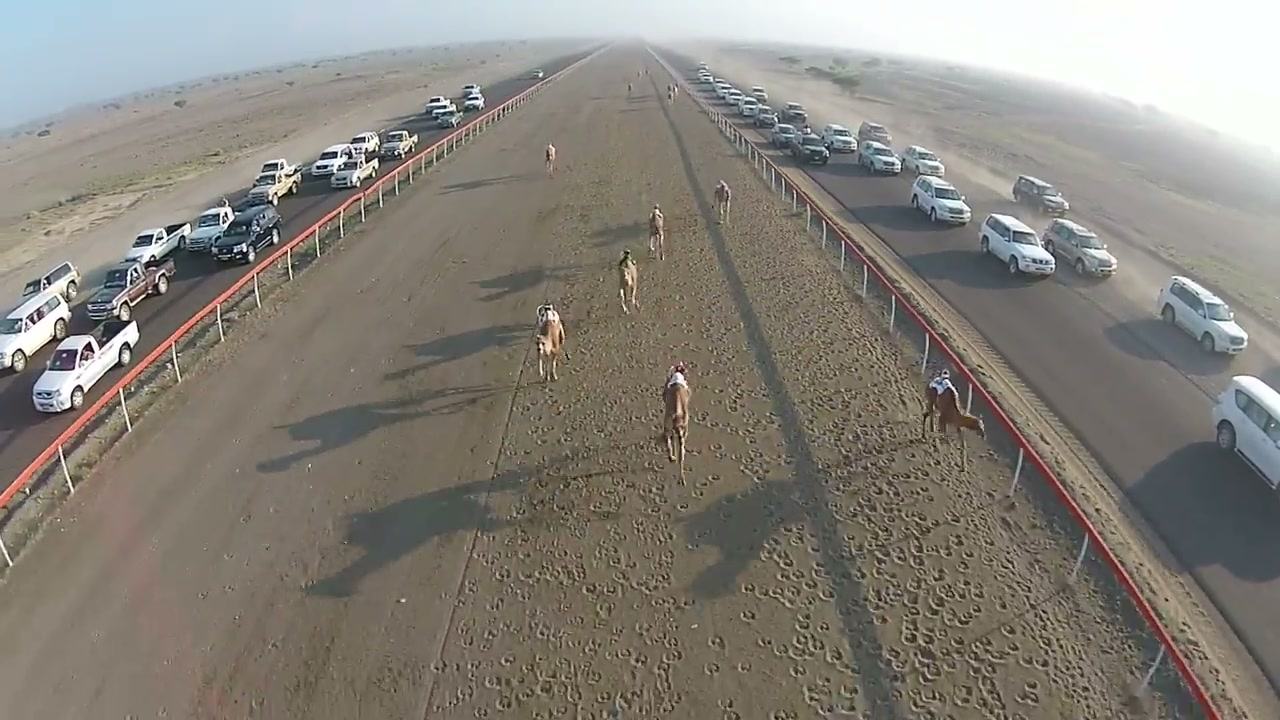animal_foot_print: (475, 418, 708, 706)
